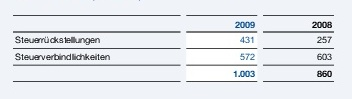table: (0, 0, 352, 99)
